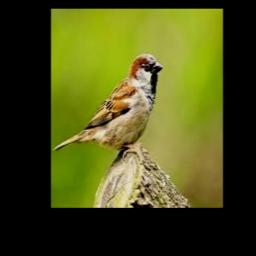Sparrow: (53, 53, 163, 160)
